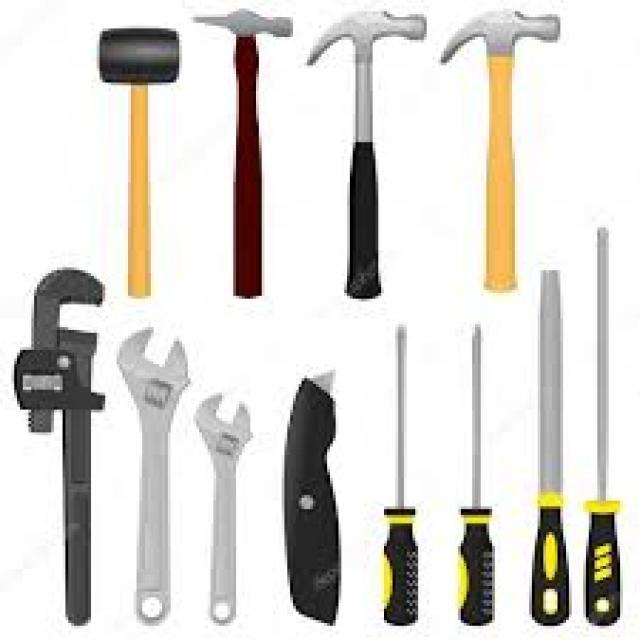hammer: (298, 2, 434, 306), (434, 4, 566, 298), (186, 2, 308, 308), (90, 17, 194, 305)
screwdriver: (579, 217, 626, 630), (374, 316, 429, 632), (450, 314, 500, 634)
wrench: (7, 260, 114, 628), (108, 318, 194, 632), (192, 386, 255, 628)
